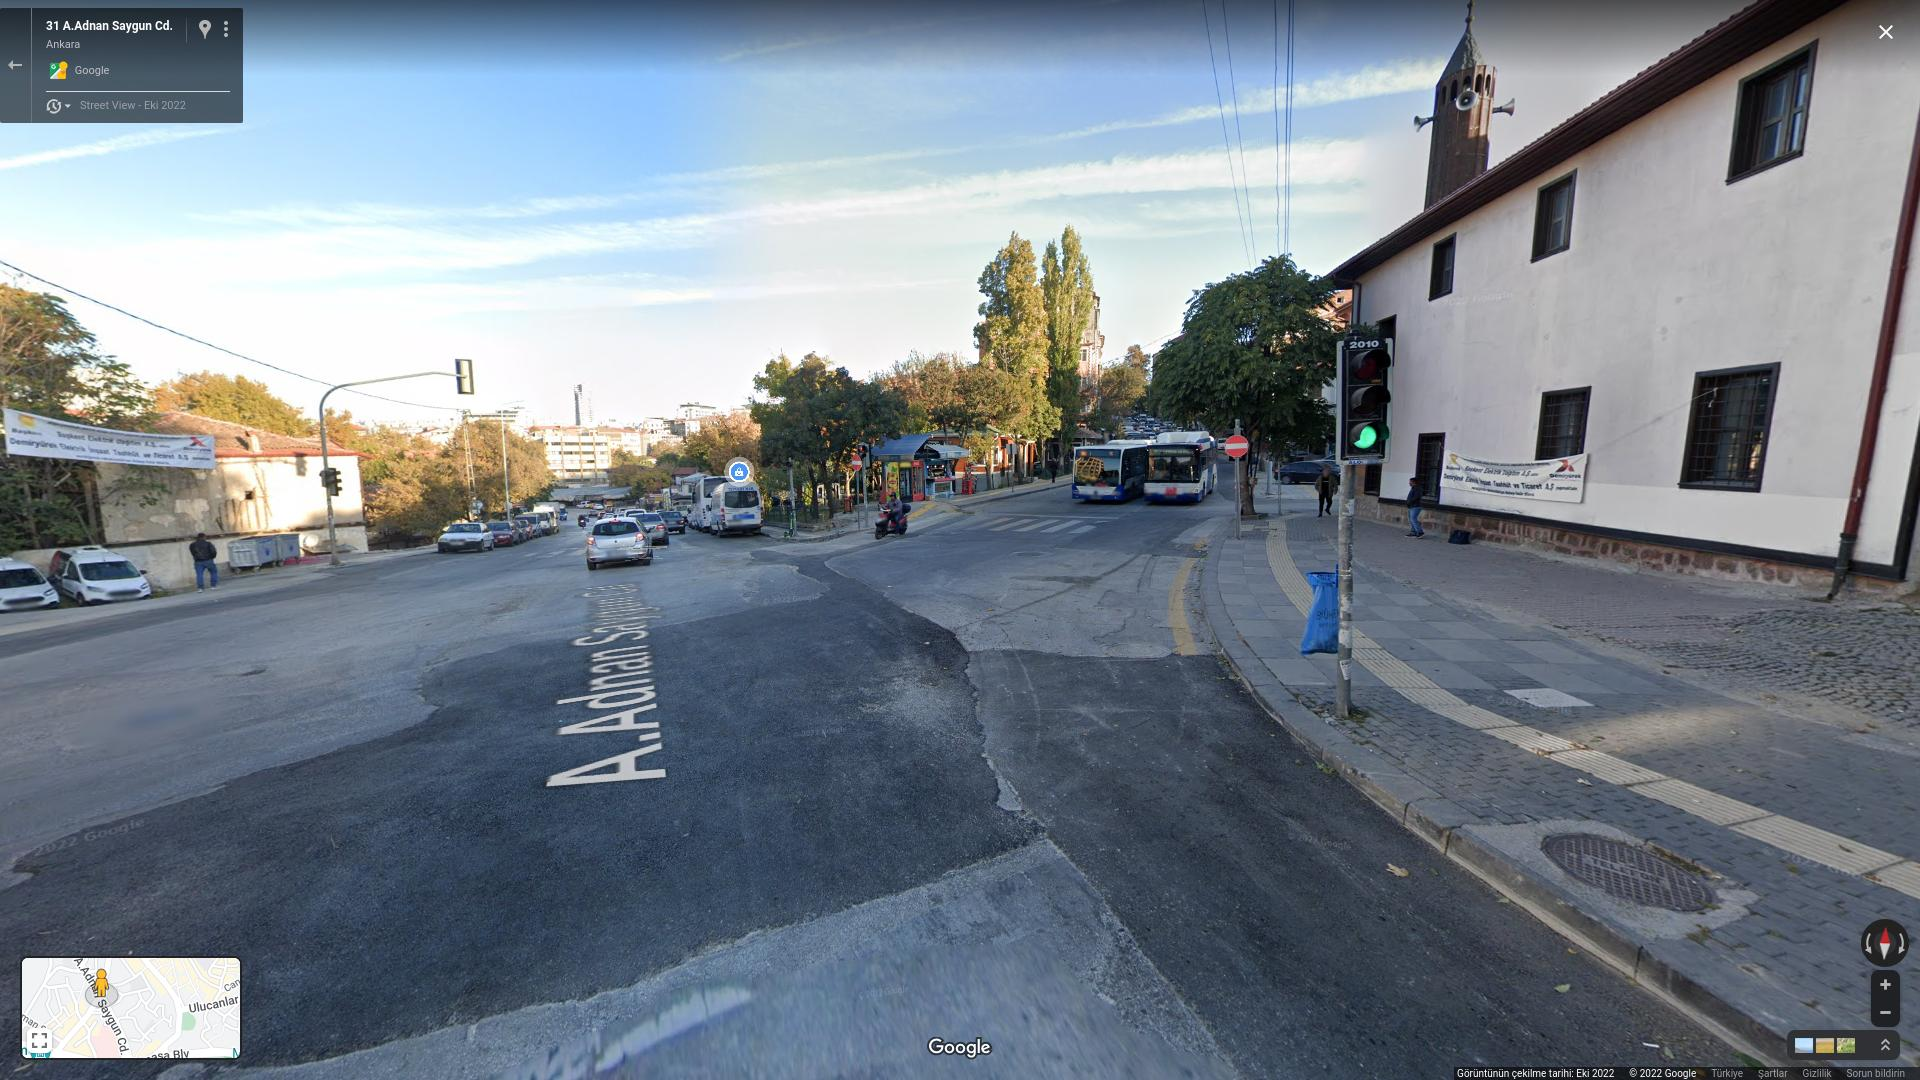greenlight: (1342, 327, 1389, 468)
